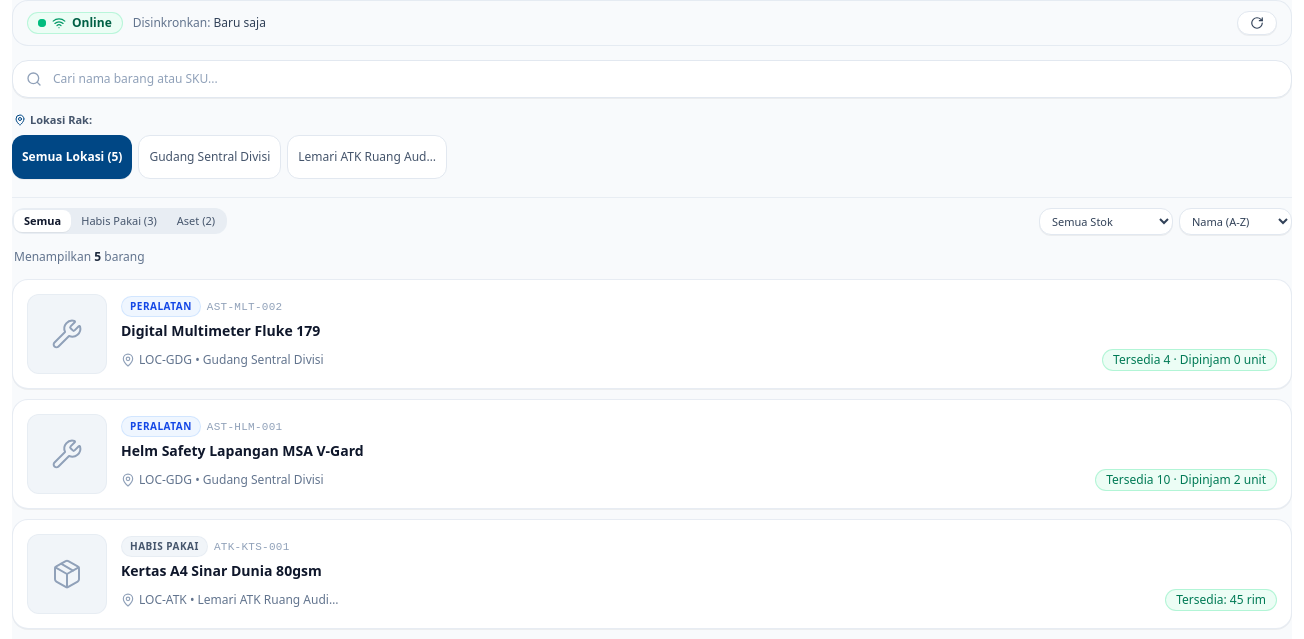
Catalog Feature Full Integration Test (Task P2.9) › shows empty state and resets all filters cleanly
Expected: the heading "Kertas A4 Sinar Dunia 80gsm" is shown, [121,561,322,580]
Type "non-existent-item-query-xyz" into the search field with test id "catalog-search-input" at [652, 79], box [12,60,1292,98]
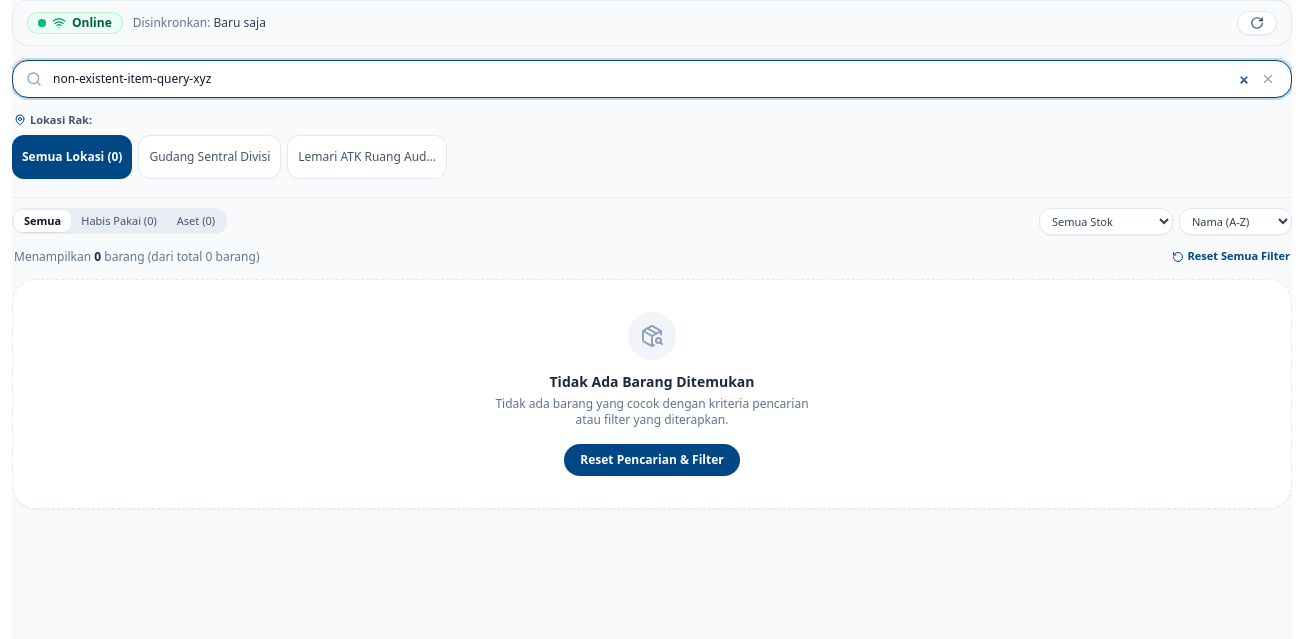
Expected: the heading "Tidak Ada Barang Ditemukan" is shown, [550,372,754,392]
Click the button "Reset Pencarian & Filter" at [652, 460], box [564,444,740,476]
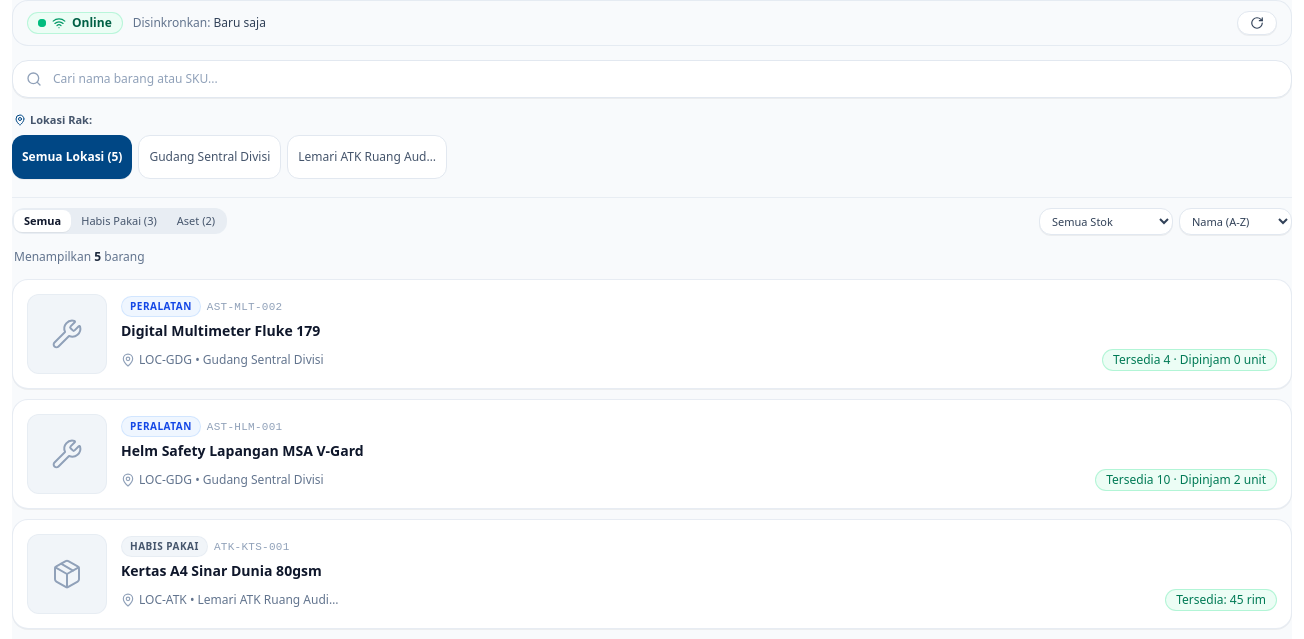
Expected: the heading "Kertas A4 Sinar Dunia 80gsm" is shown, [121,561,322,580]
